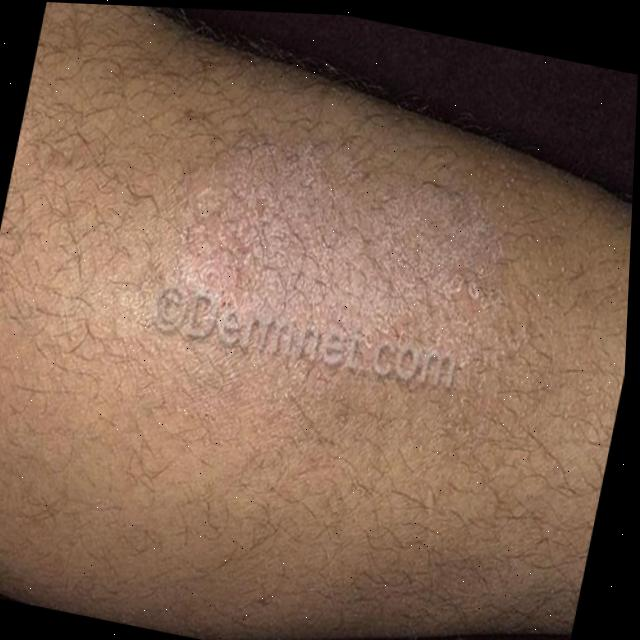Eczema: (150, 127, 558, 453)
